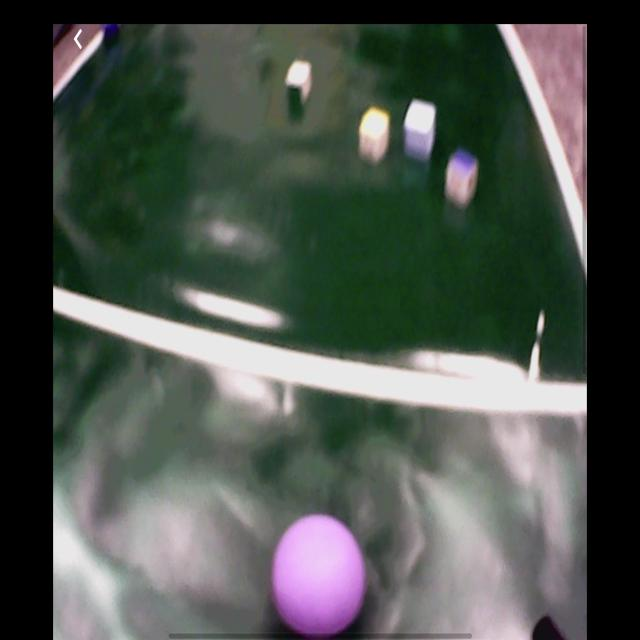ball: (273, 516, 370, 638)
